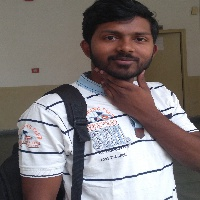ring: (104, 80, 118, 98)
